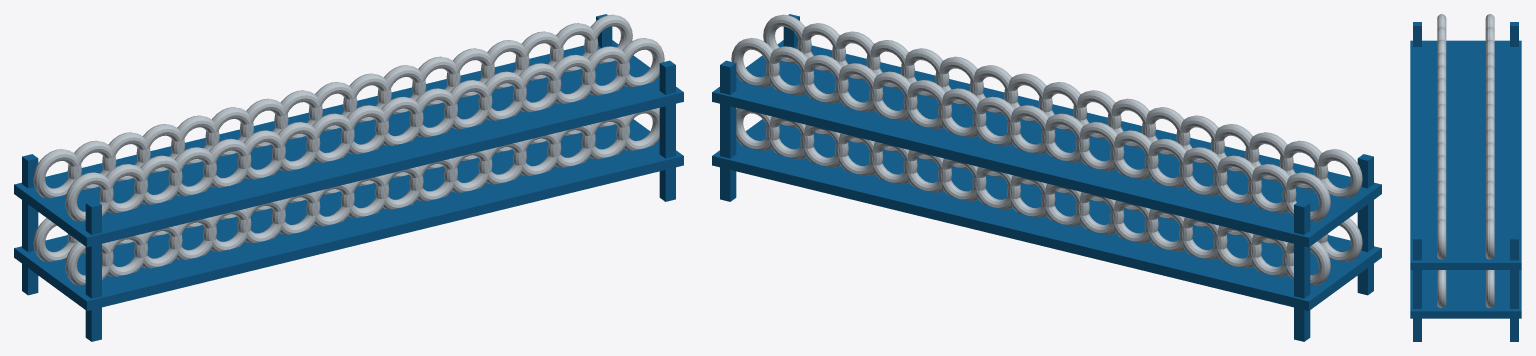
File: bearing_rack.dae
3 renders of one model, left to right at view 1: azimuth 30°, elevation 25°; view 2: azimuth 150°, elevation 25°; view 3: azimuth 270°, elevation 25°, orthographic. The views are drawn at different scales.
Parts seen in each view (by area): view 1: bearing_rack; view 2: bearing_rack; view 3: bearing_rack.
Part boxes in pixels (x1,y1,x2,y2): bearing_rack: (14,14,683,341); bearing_rack: (712,14,1381,341); bearing_rack: (1410,14,1521,341).
Size of the model in its own units: 5.21 by 1.1 by 1.25.
